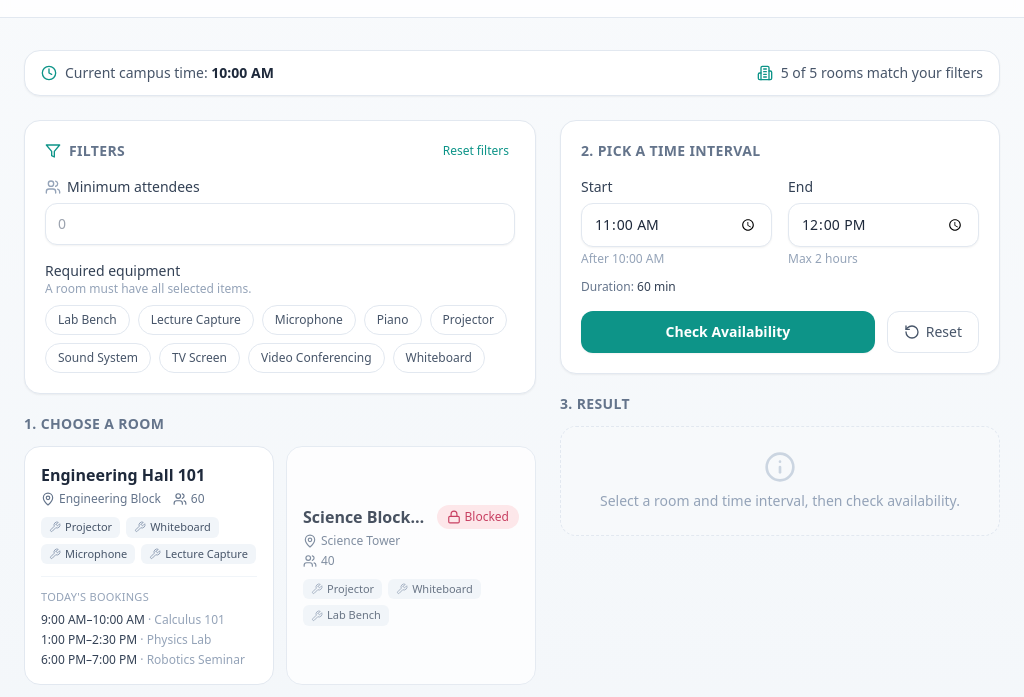
Integration: select room → check availability → result › Integration: switching rooms clears the previous result
Click the text "Engineering Hall 101" at (123,475), box [41,463,205,487]
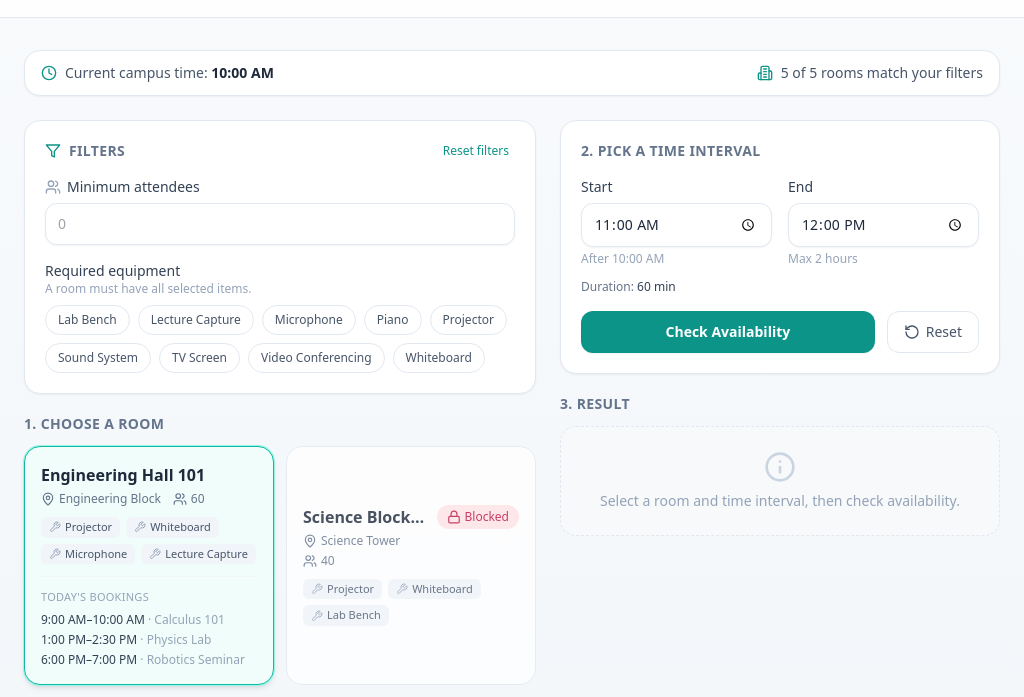
Click the button "Check Availability" at (728,332), box [581,311,875,353]
(page scrolled)
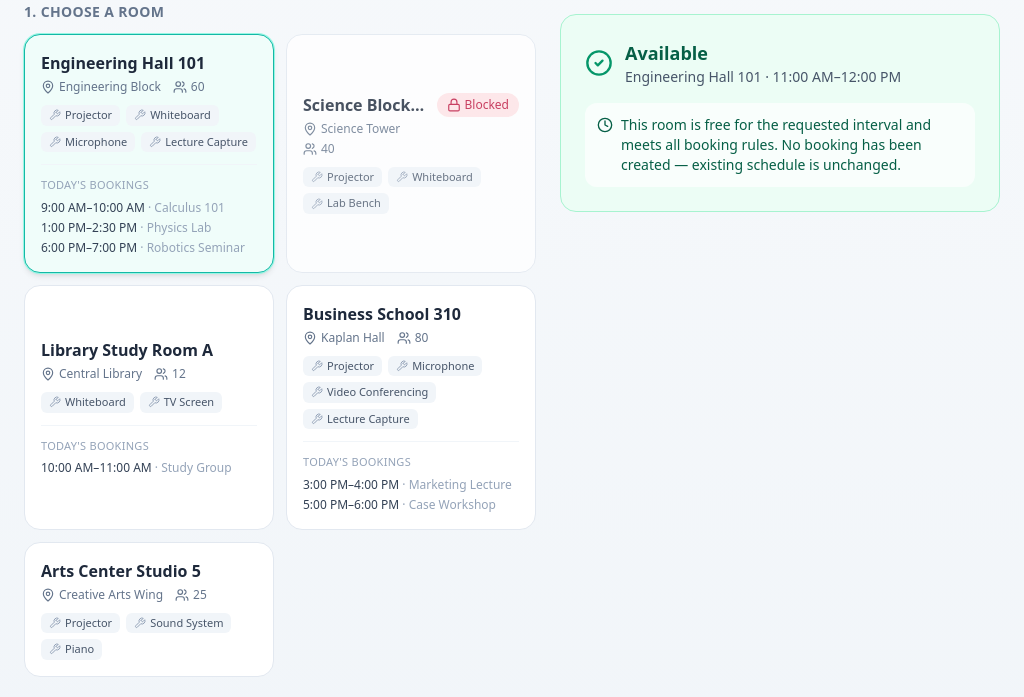
Now the text "Available" is shown, box [625,41,708,65]
Click the text "Business School 310" at (382,314), box [303,302,461,326]
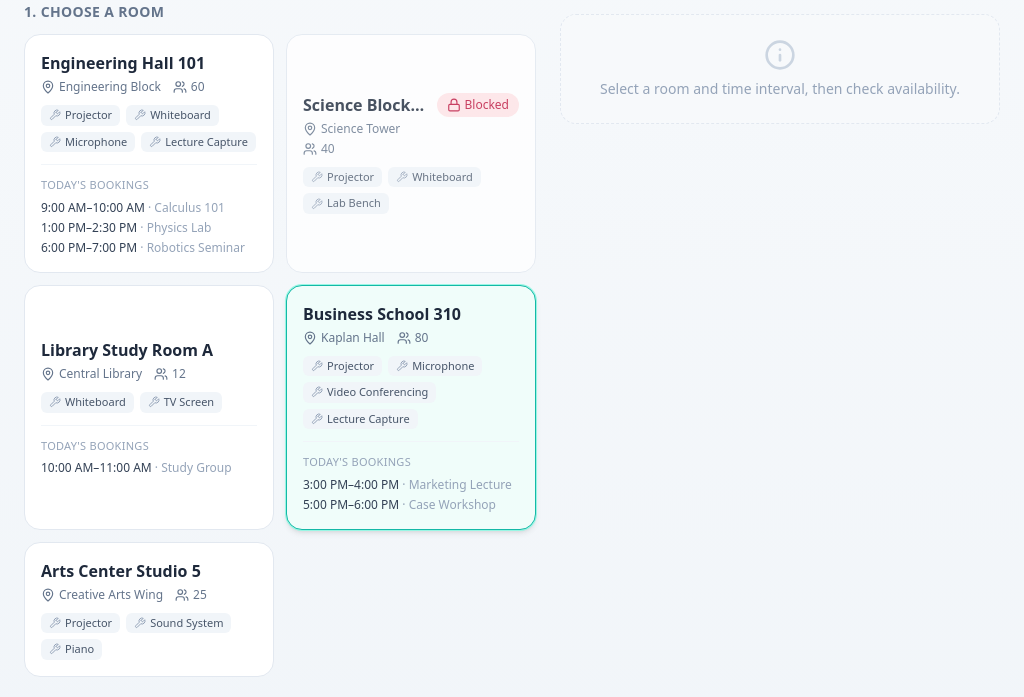
Now the text "Available" is gone
